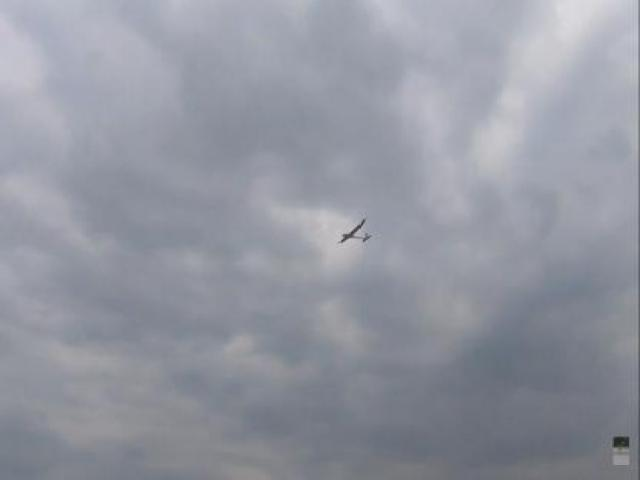uav: (337, 214, 375, 252)
